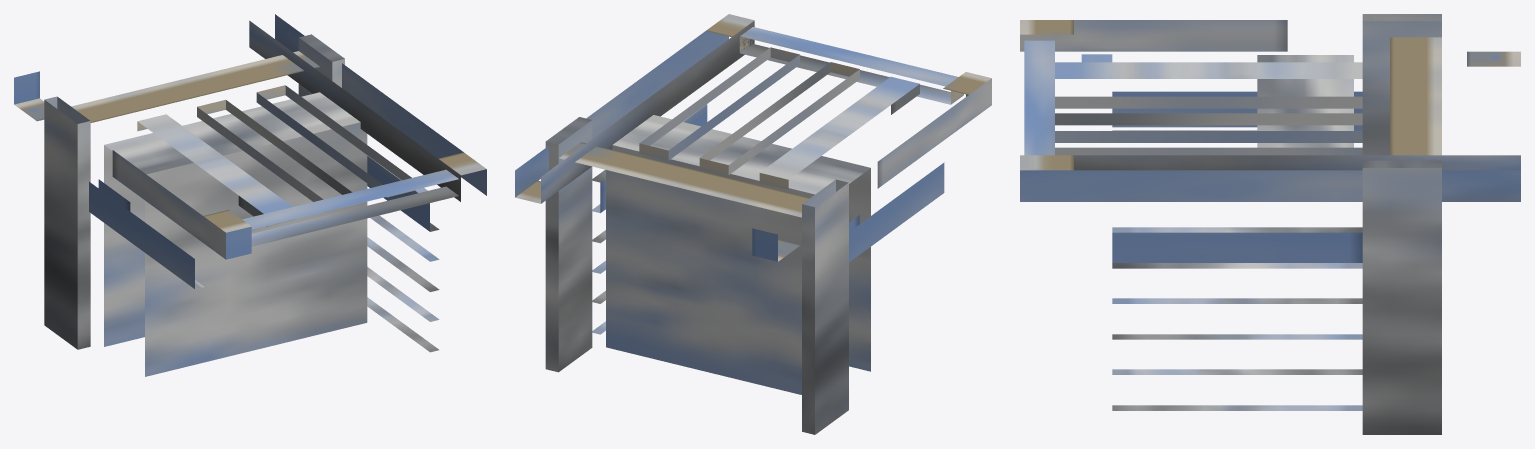
File: section-2.obj
3 views of the same model, side by side, from view 1: azimuth 30°, elevation 25°; view 2: azimuth 150°, elevation 25°; view 3: azimuth 270°, elevation 25° (orthographic). The views are drawn at different scales.
Bounding box in the file's own units: 0.83 × 0.67 × 1.14.
